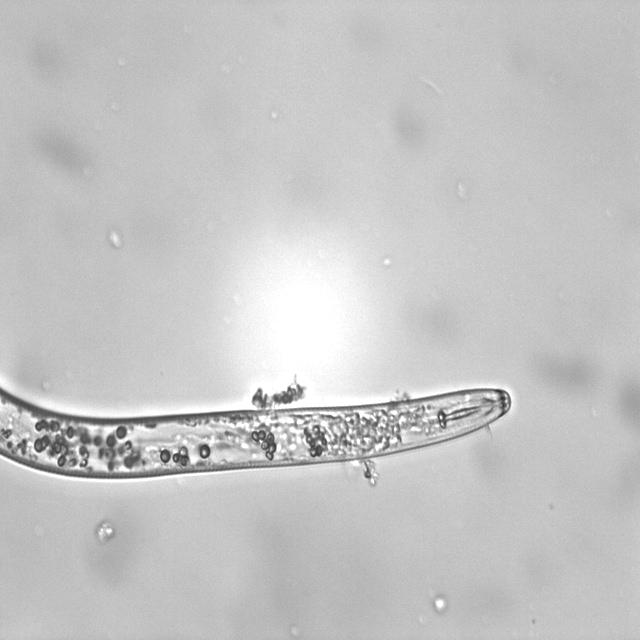Helicotylenchus: (0, 376, 512, 482)
